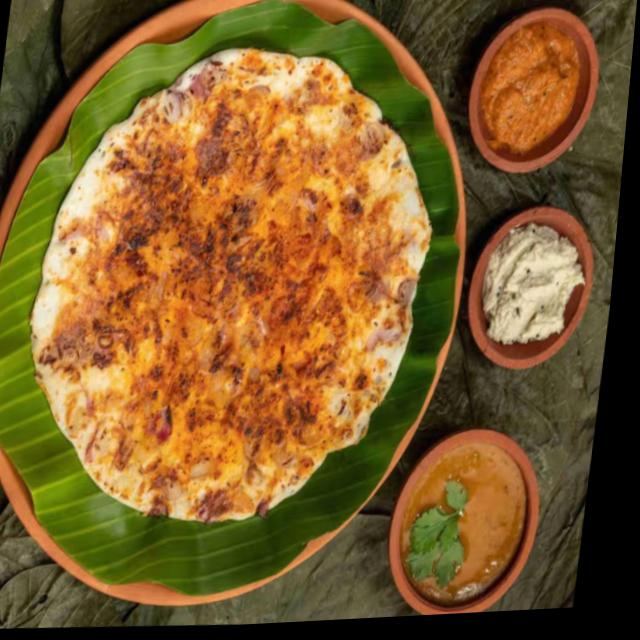DOSA: (30, 15, 441, 575)
RED CHUTNEY: (477, 15, 593, 156)
SAMBAR: (394, 437, 534, 608)
WHITE CHUTNEY: (470, 213, 589, 363)
